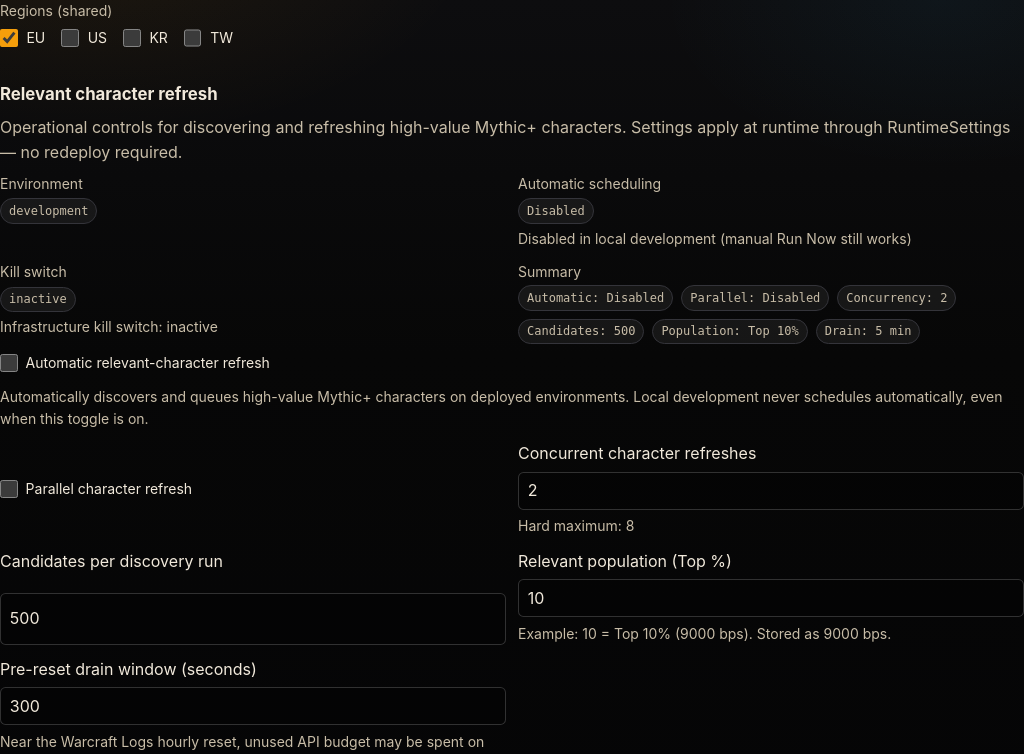
Test: RelevantCharacterRefreshPanel › loads relevant refresh and saves updated settings
Expected: the element with test id "relevant-refresh-app-env" reads "development", [9,204,88,218]
Expected: the element with test id "relevant-refresh-scheduling" shows "Disabled in local development", [518,230,912,247]
Click the checkbox with test id "relevant-refresh-enabled": x=9, y=363 [0,354,18,372]
(page scrolled)
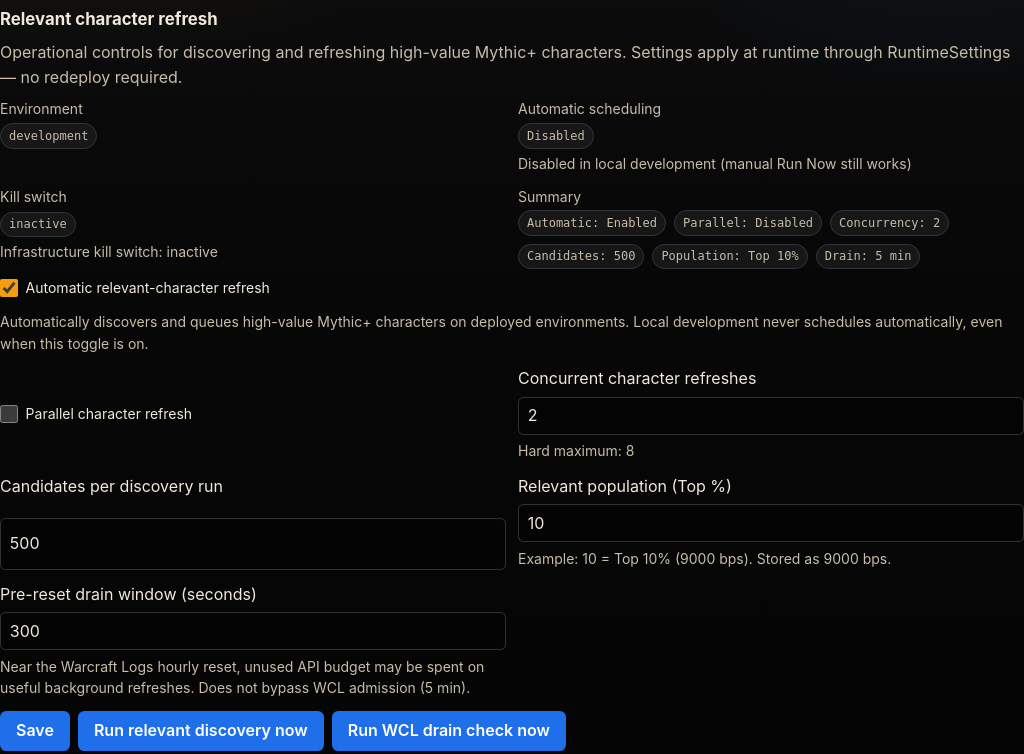
Click the button with test id "save-relevant-refresh-button": x=35, y=731 [0,711,70,751]
(page scrolled)
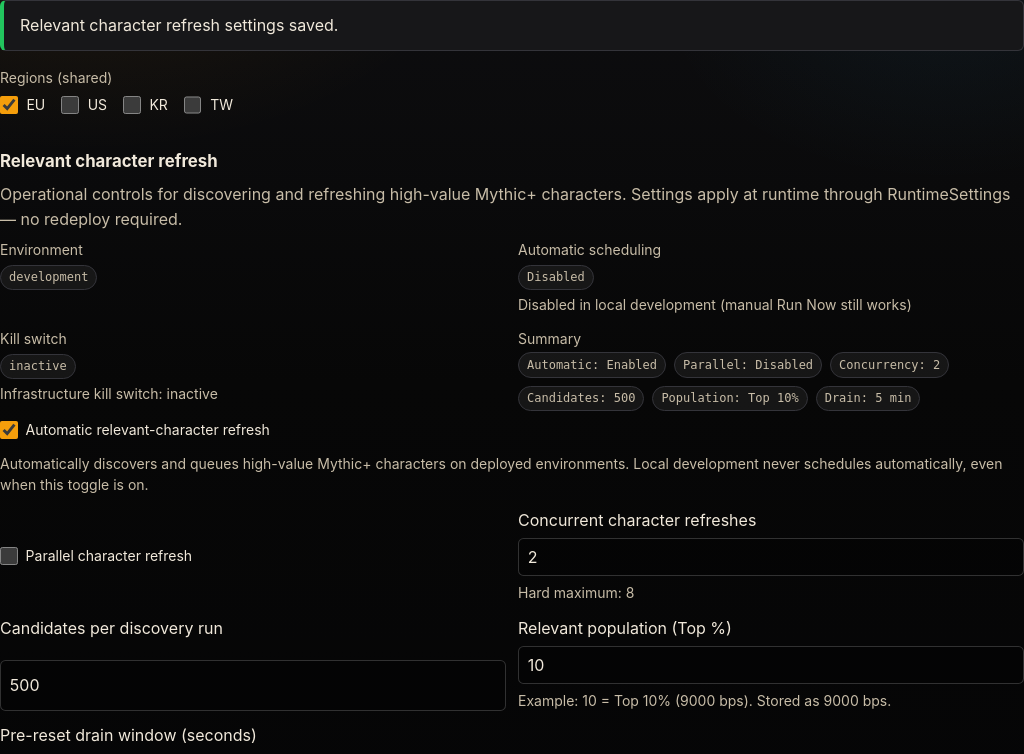
Result: the message with test id "status-banner" shows "saved" at [20,15,338,35]
